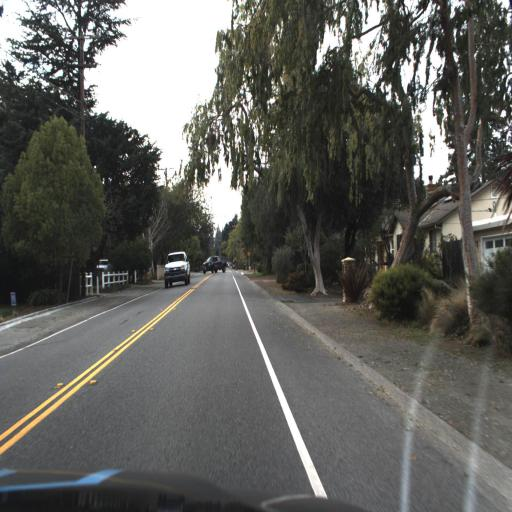car: (160, 239, 194, 299), (195, 250, 230, 275)
